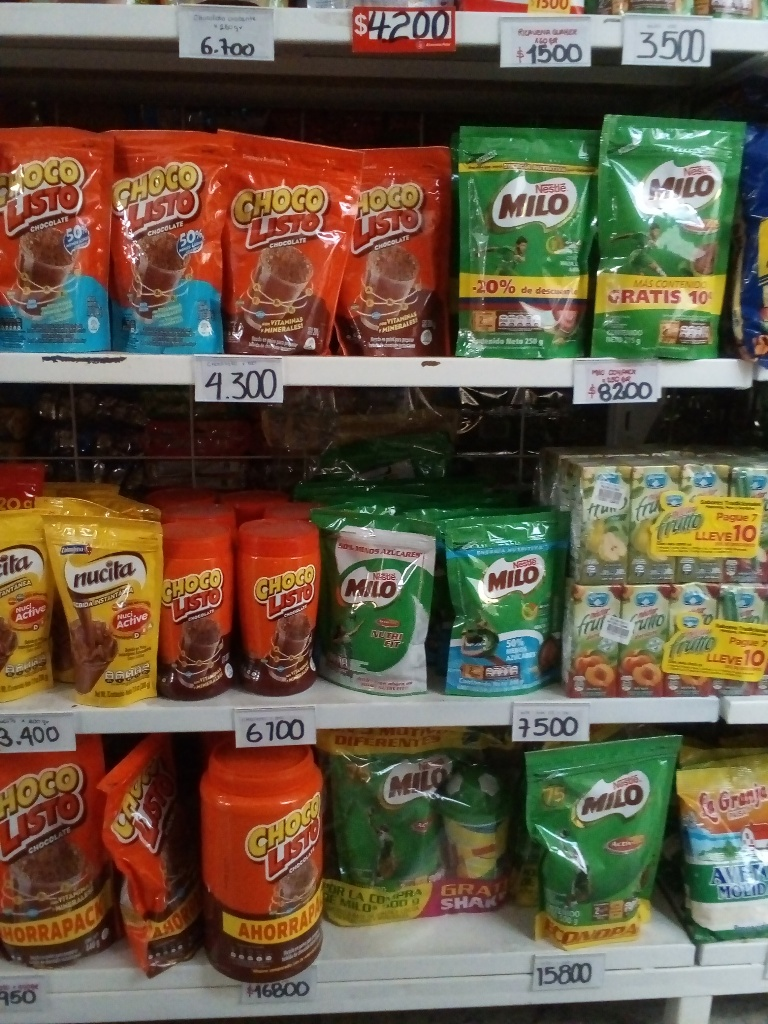COL0170103DYP20000: (225, 129, 357, 356)
COL0170103DYP44000: (0, 750, 113, 974)
COL0170103TRR00100: (198, 741, 328, 984)
COL0170103TRR30000: (238, 524, 325, 698)
COL0170104DYP20000: (1, 127, 114, 351)
COL0170203DYP25000: (456, 122, 591, 356)
COL0170203DYP50000: (527, 734, 677, 951)
COL0170205DYP20000: (312, 509, 443, 700)
